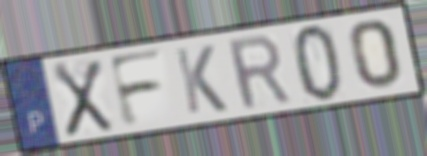0: (290, 22, 345, 104), (346, 18, 406, 91)
F: (105, 47, 166, 131)
K: (172, 43, 230, 116)
R: (223, 31, 295, 113)
X: (49, 57, 116, 140)
